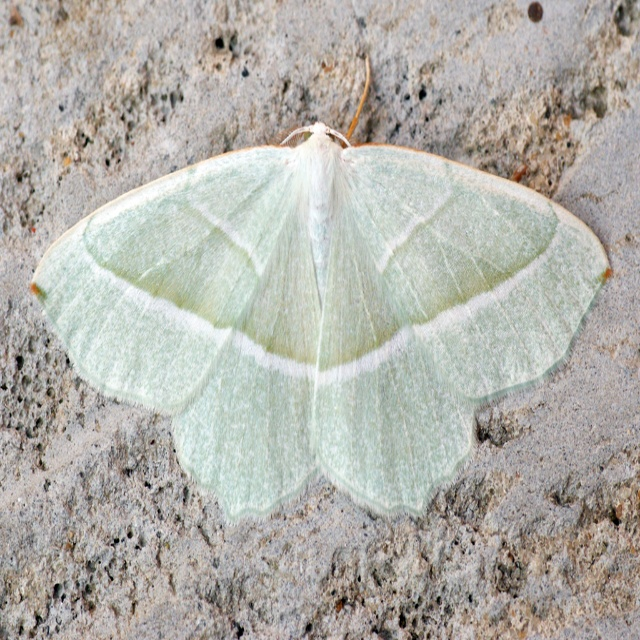Moths and butterflies: (28, 119, 614, 525)
